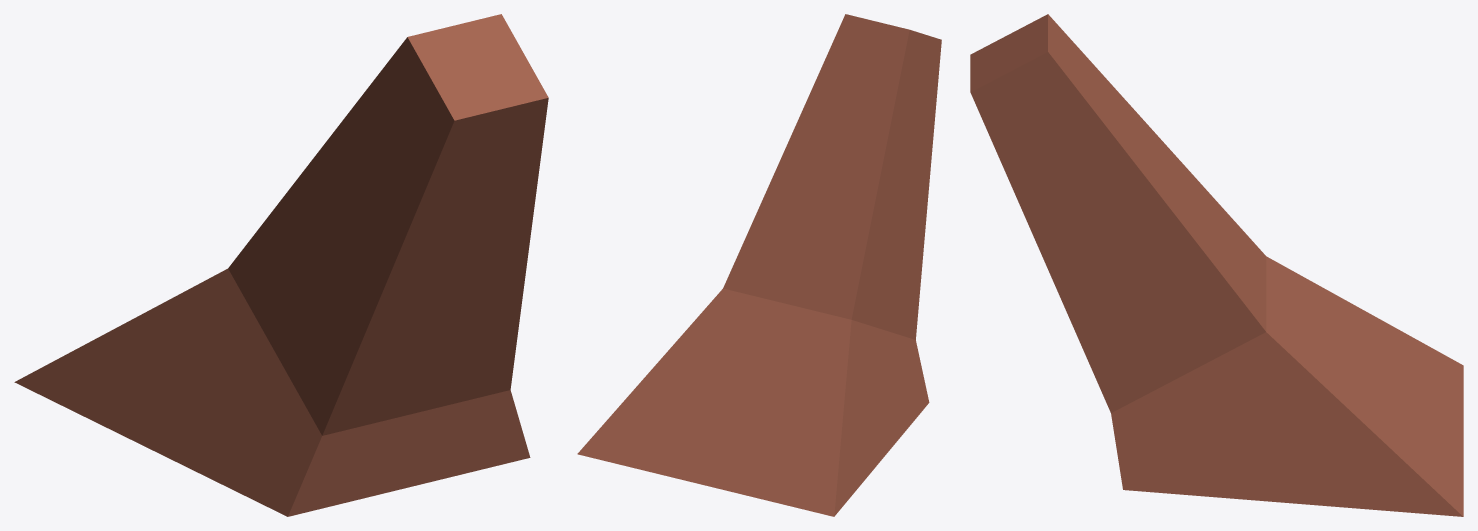
File: branch.glb
The picture shows the model from 3 angles, left to right: view 1: azimuth 30°, elevation 25°; view 2: azimuth 150°, elevation 25°; view 3: azimuth 270°, elevation 25°; orthographic projection. The views are drawn at different scales.
Visible parts, largest first — view 1: tree_branchShortBend; view 2: tree_branchShortBend; view 3: tree_branchShortBend.
Boxes of the visible parts, x1=… form: tree_branchShortBend: x1=14, y1=14, x2=548, y2=516; tree_branchShortBend: x1=577, y1=14, x2=941, y2=516; tree_branchShortBend: x1=970, y1=14, x2=1463, y2=516.
Bounding box in the file's own units: 0.15 × 0.1884 × 0.2062.
